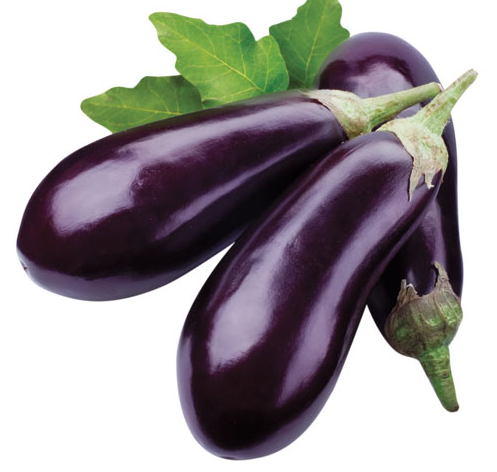catim: (179, 65, 477, 448), (17, 85, 358, 303), (320, 36, 477, 418)
